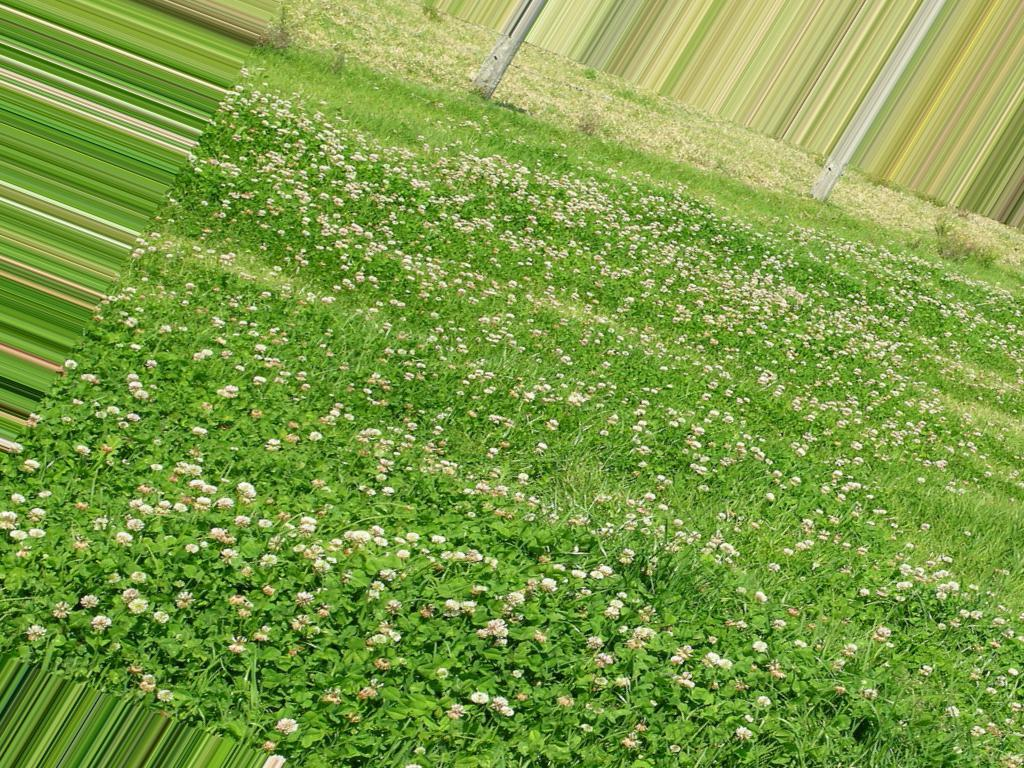patch: (530, 65, 694, 153), (342, 7, 452, 67), (846, 181, 952, 234), (708, 121, 796, 184), (966, 218, 1018, 263)
